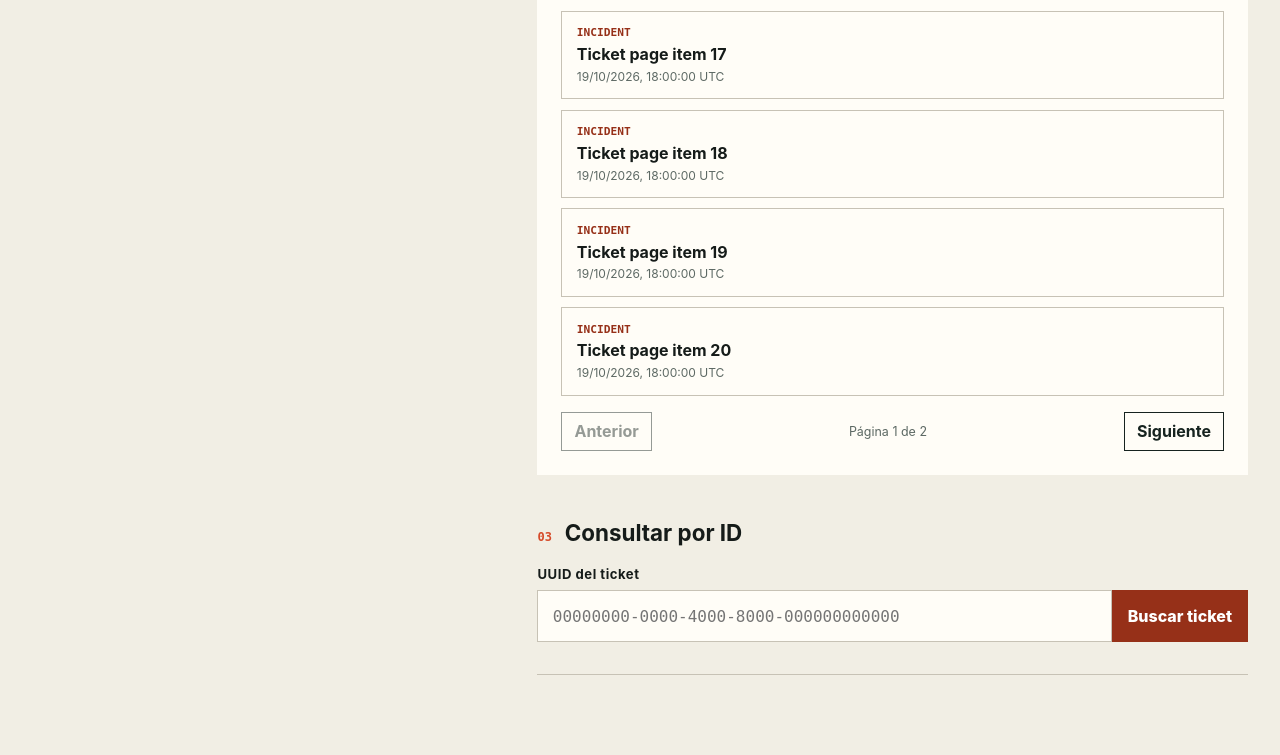
Scenario: TicketWorkspace › moves through ticket pages without mixing user-scoped cache entries
The image size is (1280, 755).
(page scrolled)
Click the button "Siguiente" at x=1174, y=431, box 1124,412 -> 1224,451
(page scrolled)
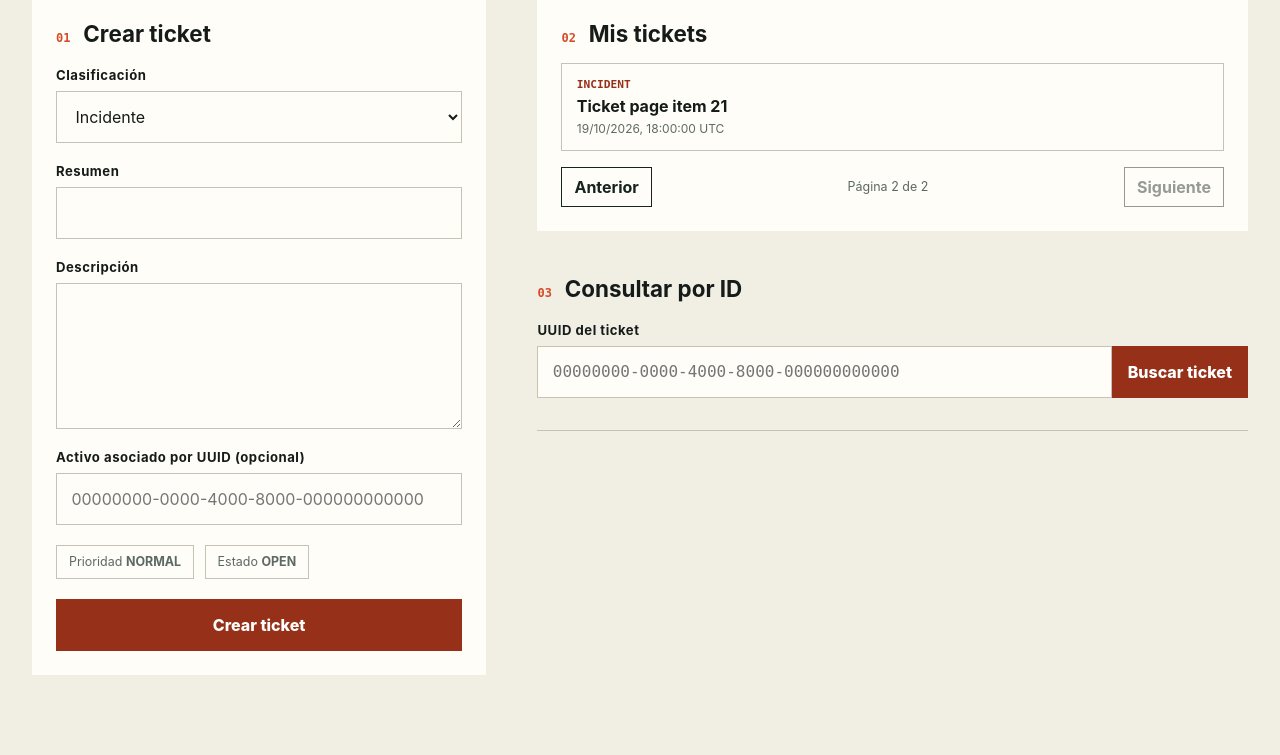
Check: the text "Ticket page item 21" is shown, box 577,96 -> 727,116
